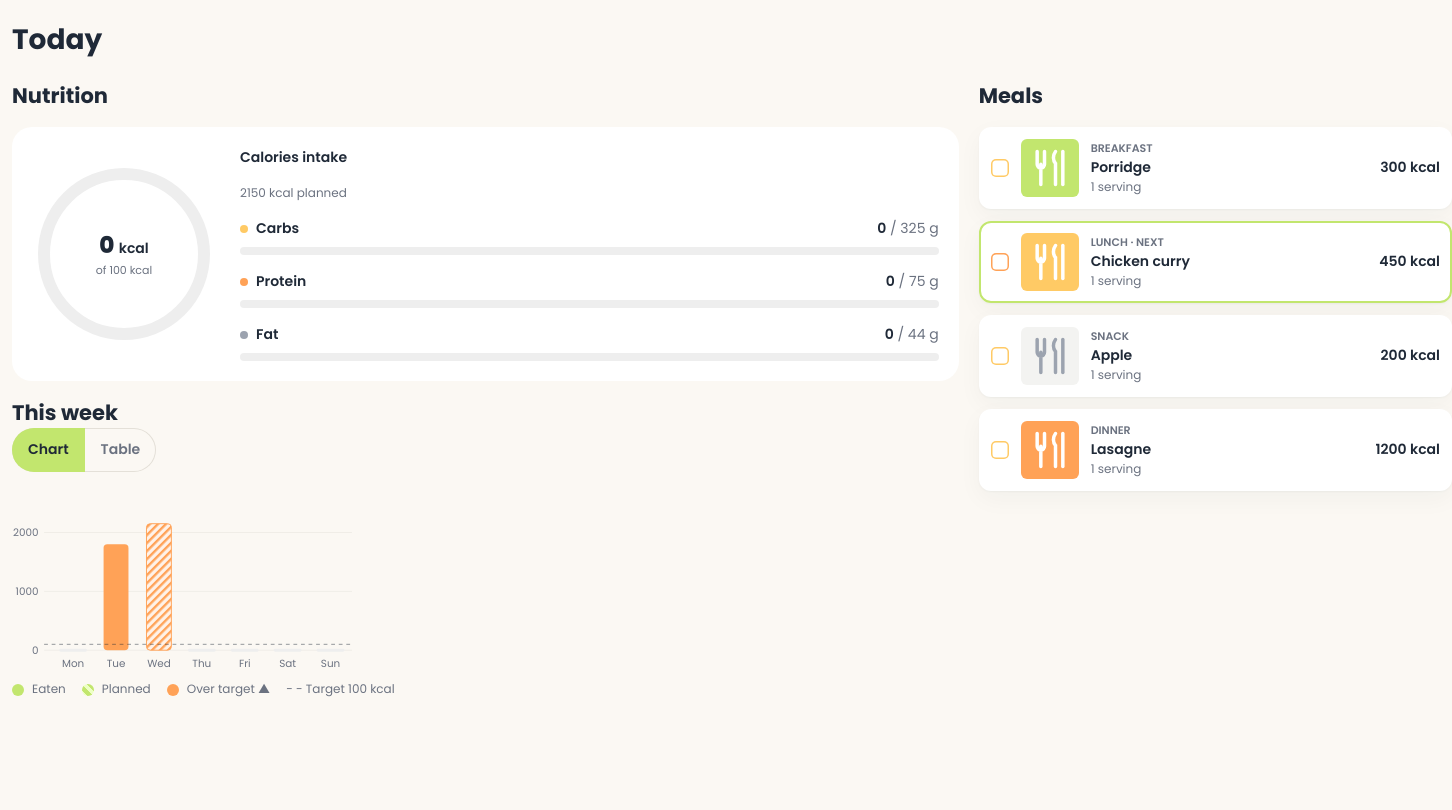
it: TodayPage › AC-5: over the target shows '+N kcal over ▲'
Expected: the picture "0 kcal of 100" is shown, [32,162,216,346]
Click the checkbox named "breakfast". click: (1000, 168)
box: [991,158,1009,176]
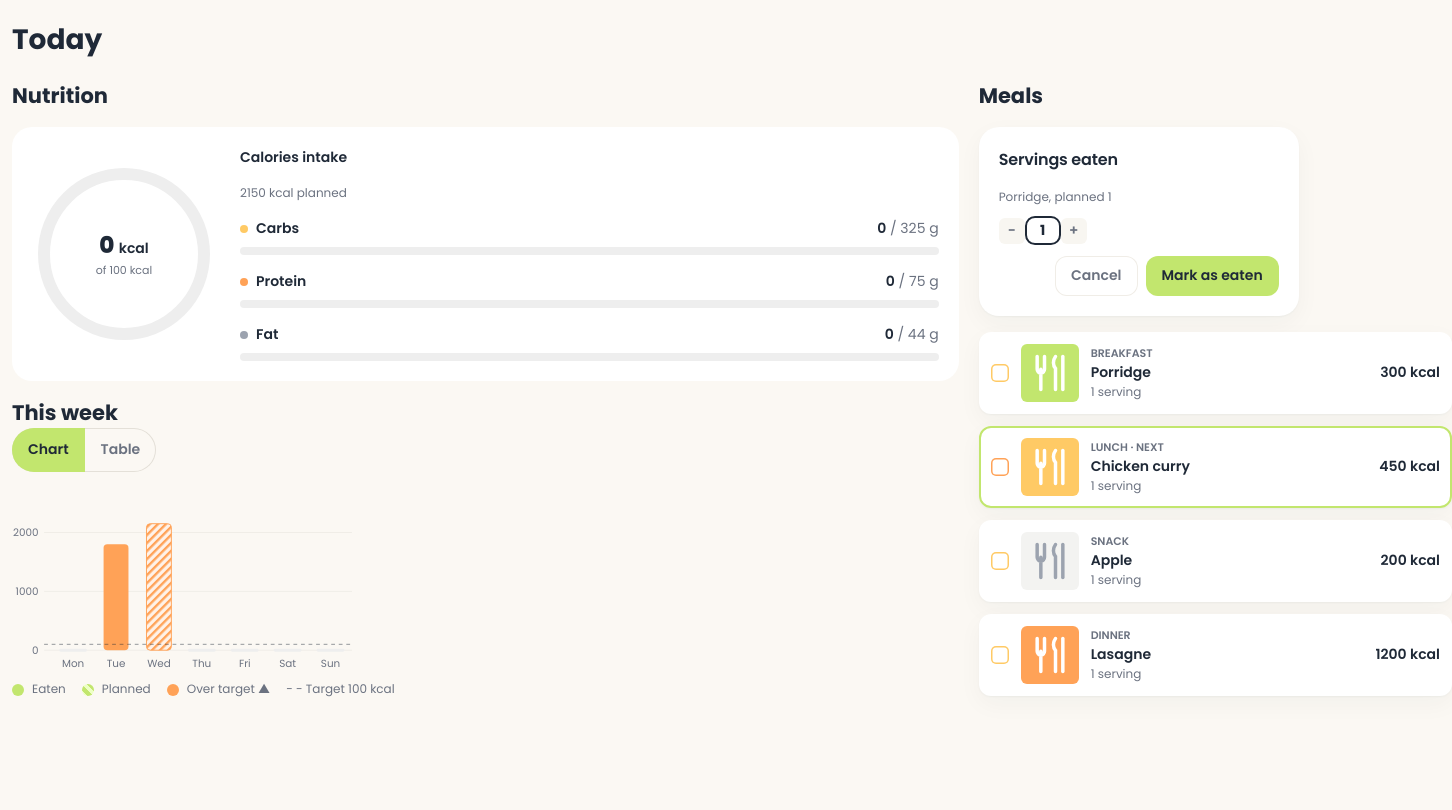
Click the button "Mark as eaten". click: (1212, 276)
box: [1146,256,1279,296]
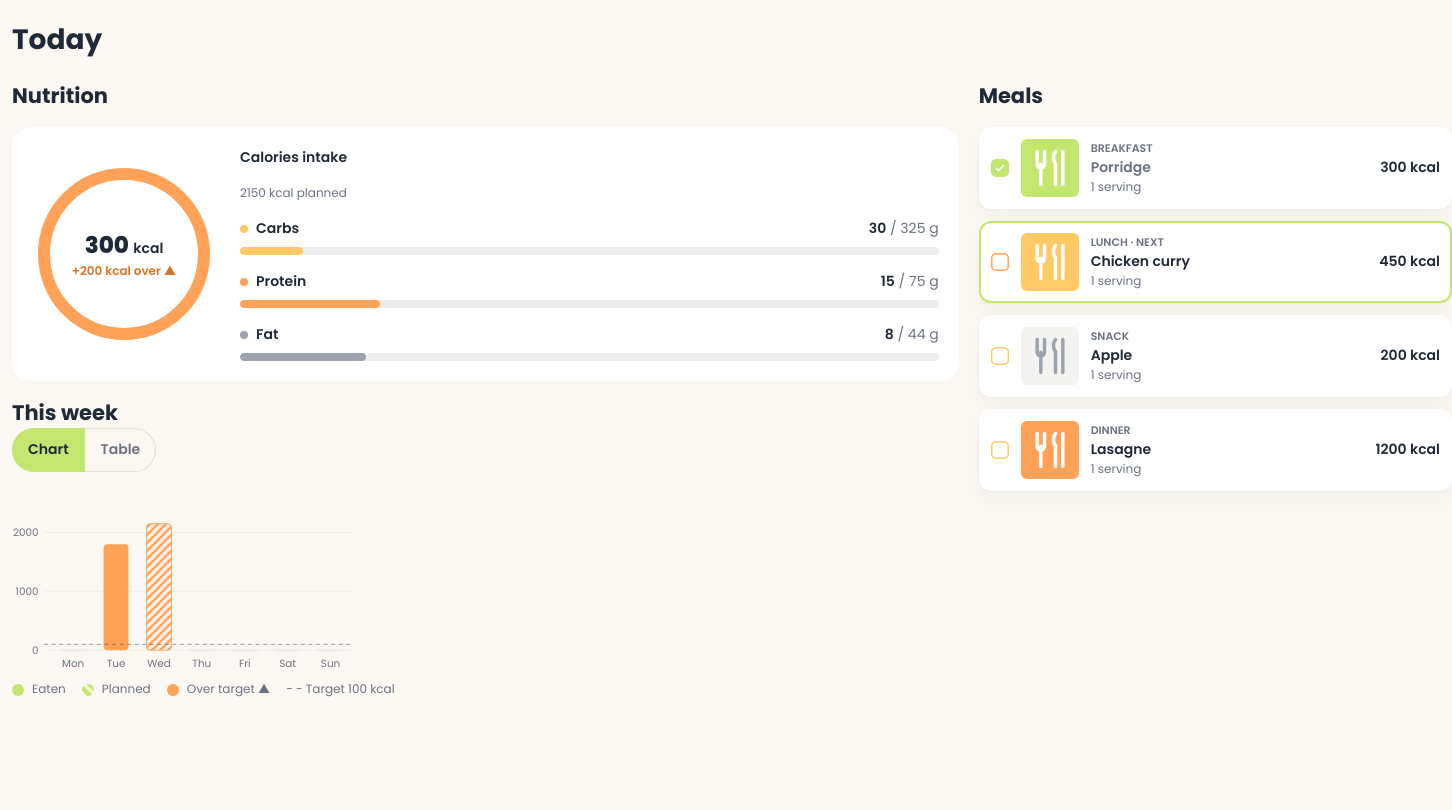
Now the text "+200 kcal over ▲" is shown, box [72,262,176,280]
Now the picture named "300 kcal of 100, over target" is shown, box [32,162,216,346]
